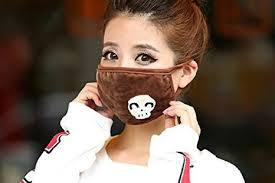OK: (94, 35, 186, 127)
